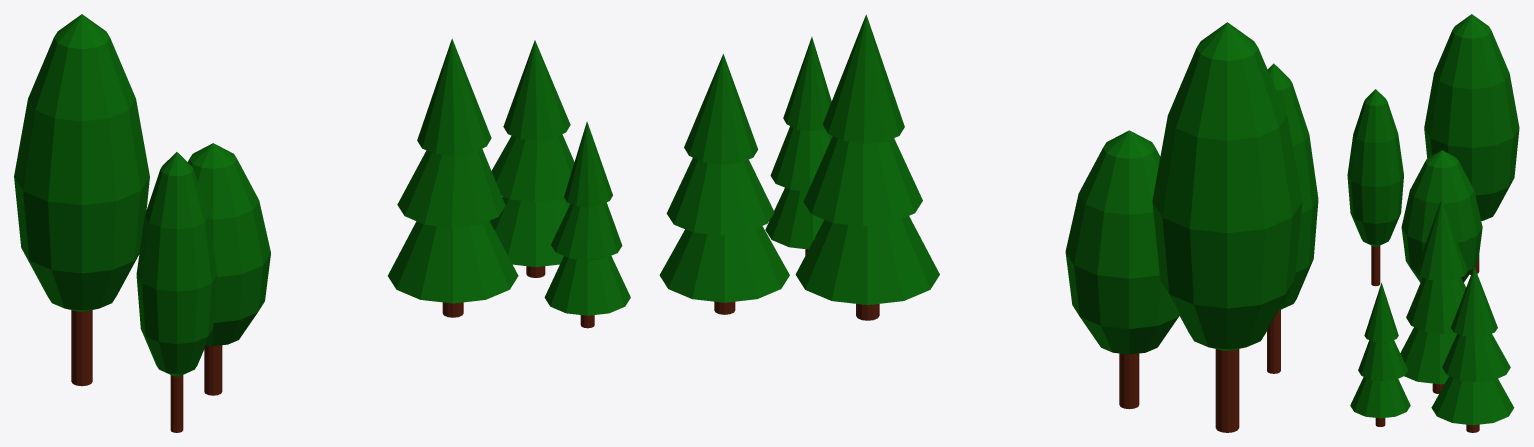
File: Tree_test.FBX
3 views of the same model, side by side, from view 1: azimuth 30°, elevation 25°; view 2: azimuth 150°, elevation 25°; view 3: azimuth 270°, elevation 25° (orthographic). The views are drawn at different scales.
Visible parts, largest first — view 1: Object002, Object001; view 2: Object002, Object001; view 3: Object002, Object001.
Boxes of the visible parts, x1,y1,x2,y2 form: Object002: (14,14,270,432); Object001: (388,38,630,328); Object002: (1065,22,1318,432); Object001: (659,14,939,320); Object002: (1347,14,1519,286); Object001: (1350,199,1514,432).
Size of the model in its own units: 2465 by 1624 by 928.
